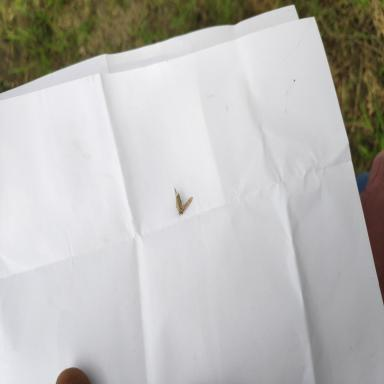pbw: (174, 188, 193, 215)
